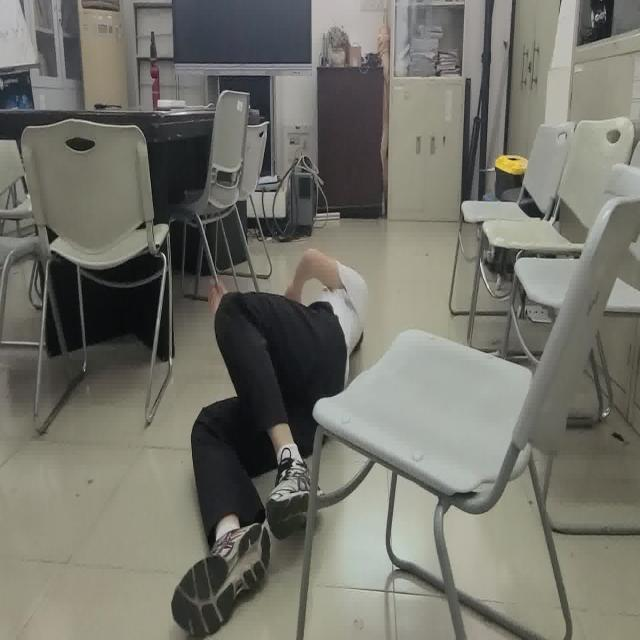Fall-Detected: (172, 247, 371, 640)
